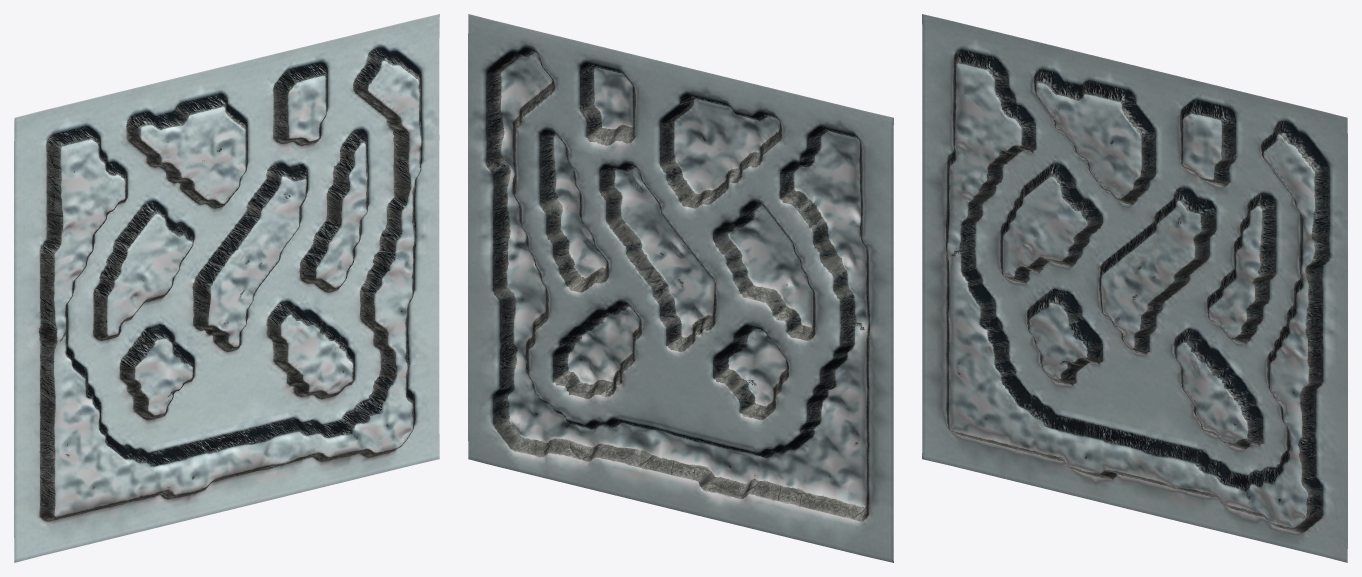
Rendered from map2.fbx.
3 views of the same model, side by side, from view 1: azimuth 30°, elevation 25°; view 2: azimuth 150°, elevation 25°; view 3: azimuth 330°, elevation 25° (orthographic).
Parts seen in each view (by area): view 1: terrain_c_tex; view 2: terrain_c_tex; view 3: terrain_c_tex.
Boxes of the visible parts, x1=… form: terrain_c_tex: x1=14, y1=14, x2=439, y2=562; terrain_c_tex: x1=468, y1=14, x2=893, y2=562; terrain_c_tex: x1=922, y1=14, x2=1347, y2=562.
Size of the model in its own units: 2.55 by 2.55 by 0.1.
Materials: 1 (1 with a texture image).
